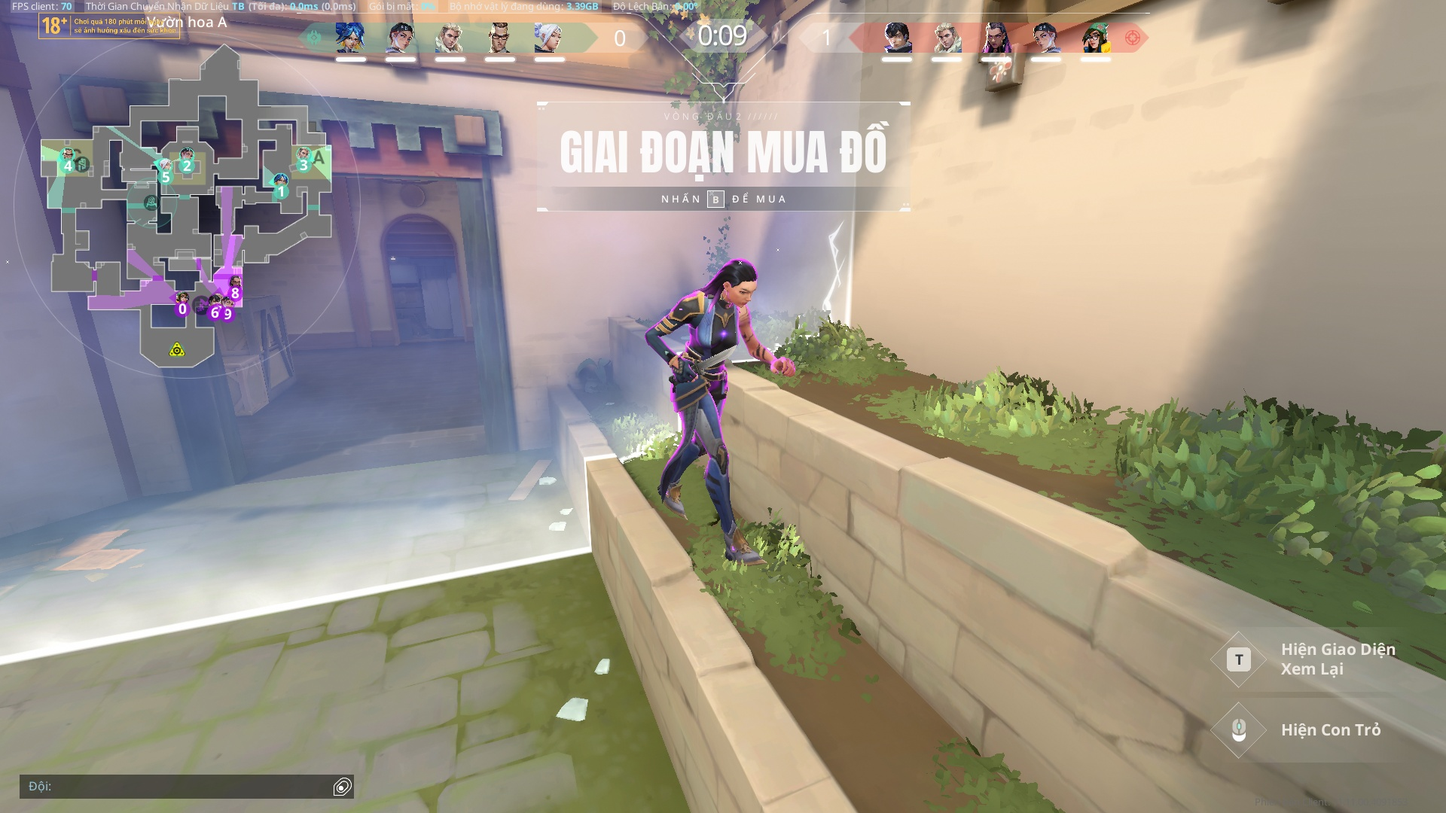body: (676, 285, 743, 361)
head: (721, 256, 763, 309)
